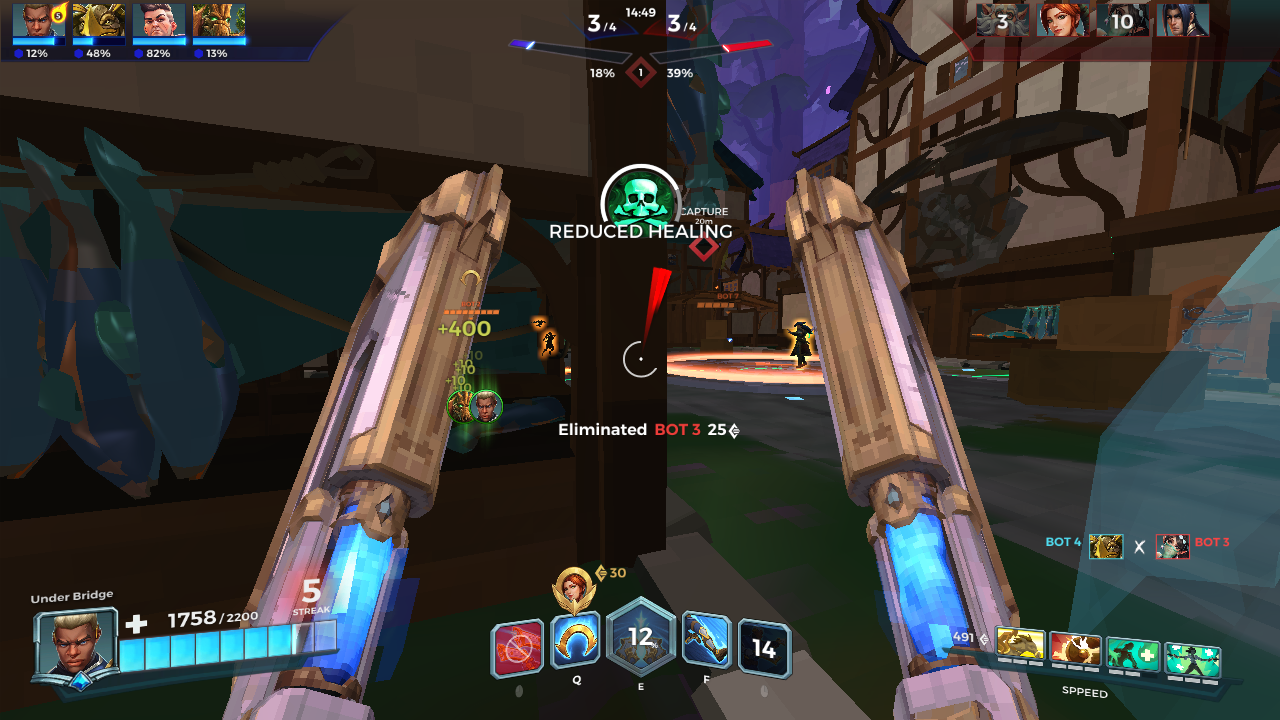model: (782, 309, 817, 373), (539, 329, 562, 361)
